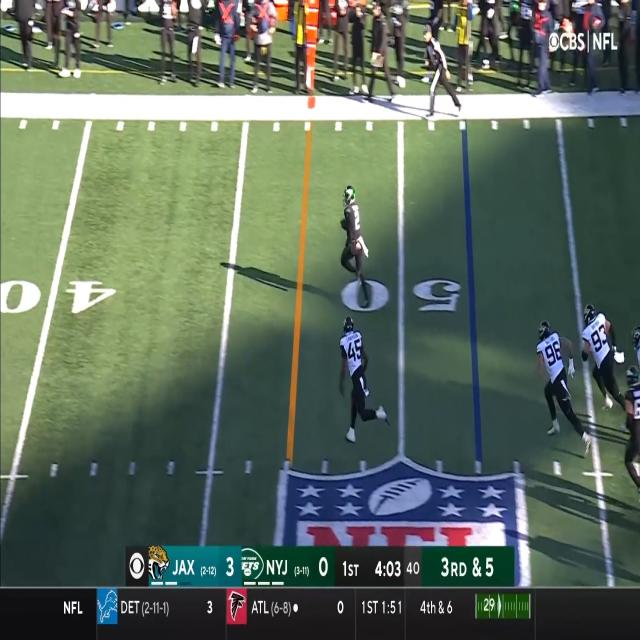players: (525, 317, 594, 451), (336, 311, 390, 450), (334, 182, 378, 304), (581, 303, 623, 412), (623, 360, 640, 486)
